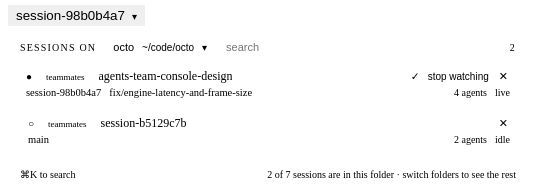
Scenario: opens the folder menu from the chip and lists every folder with its count
Click the button with test id "folder-chip" at [160, 47], box [105,39,215,55]
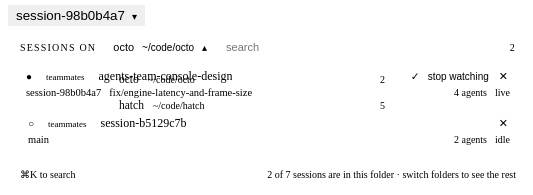
Result: the options read "octo~/code/octo2", "hatch~/code/hatch5", in this order at [119,73,385,85]; [119,99,385,111]
